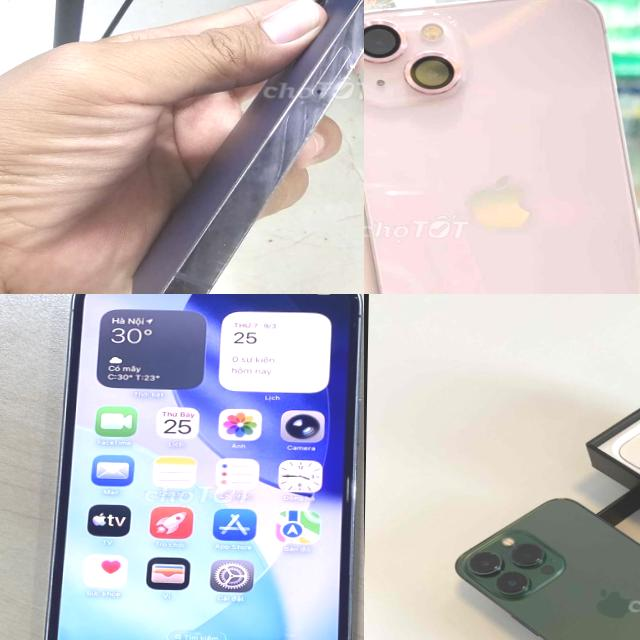scratch: (132, 272, 176, 294), (208, 224, 234, 256)
